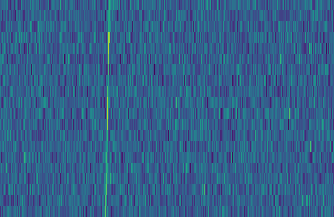signal: (100, 0, 112, 217)
